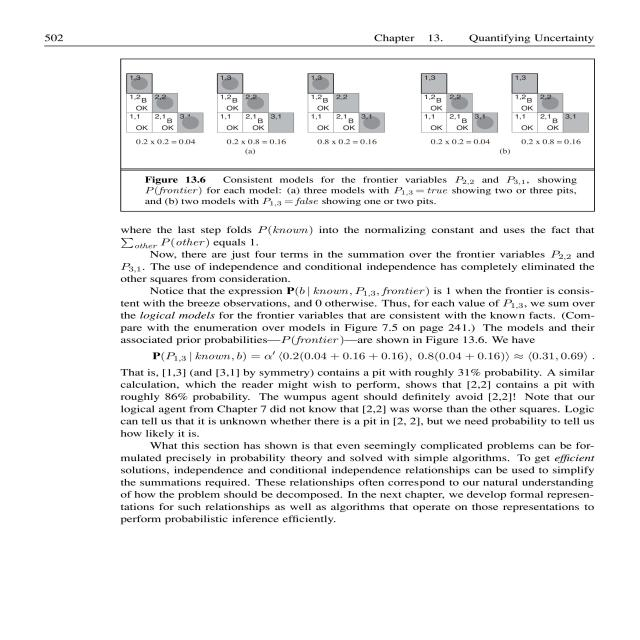diagram: (122, 59, 594, 209)
